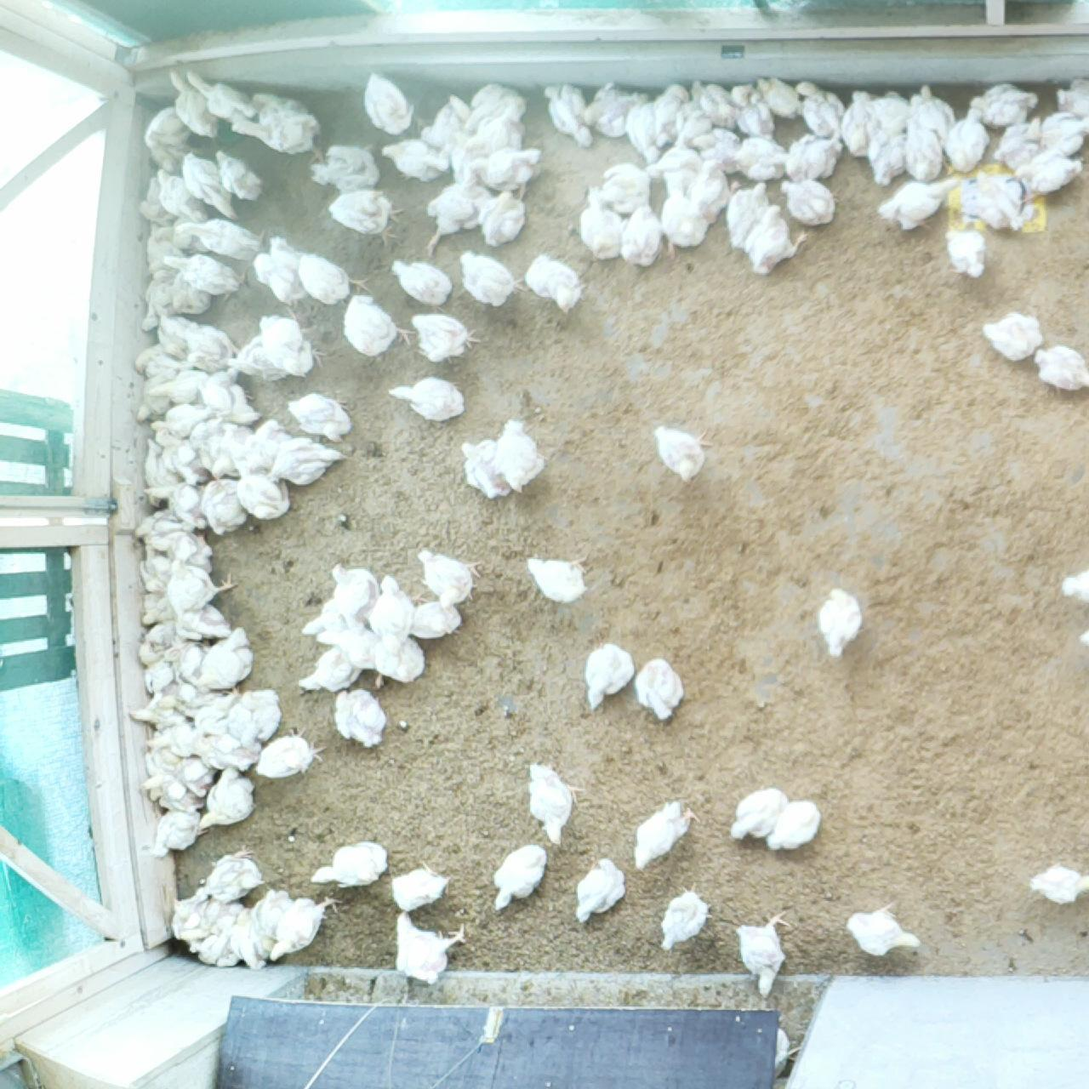chicken: (422, 161, 495, 256), (264, 891, 346, 966), (393, 909, 472, 986), (522, 757, 586, 851), (733, 907, 795, 1004), (338, 289, 417, 362), (281, 247, 373, 309), (839, 896, 925, 961), (629, 798, 701, 874), (255, 308, 332, 379), (415, 544, 486, 620), (740, 203, 811, 277), (249, 721, 331, 785), (659, 170, 716, 261), (156, 247, 252, 300), (327, 183, 406, 247), (261, 433, 349, 490), (872, 177, 956, 236), (161, 554, 238, 618), (194, 842, 273, 904), (178, 148, 243, 223), (491, 415, 549, 499), (577, 78, 652, 141), (165, 65, 224, 144), (970, 167, 1036, 237), (635, 81, 691, 163), (456, 247, 530, 309), (656, 879, 717, 954), (521, 251, 588, 319), (170, 217, 269, 263), (185, 67, 259, 128), (540, 79, 601, 153), (195, 764, 259, 834), (306, 839, 392, 891), (195, 620, 257, 692), (1011, 147, 1086, 206), (467, 145, 546, 201), (194, 365, 264, 428), (576, 182, 629, 265), (230, 458, 295, 525), (492, 843, 550, 918), (521, 552, 600, 607), (651, 419, 712, 490), (570, 854, 628, 928), (631, 653, 688, 728), (406, 311, 483, 366), (293, 640, 366, 698), (229, 110, 322, 155), (386, 372, 468, 423), (583, 638, 638, 713), (307, 141, 383, 195), (727, 785, 794, 846), (283, 391, 357, 446), (387, 855, 457, 913), (367, 574, 417, 655), (814, 584, 867, 660), (363, 628, 429, 689), (597, 158, 664, 218), (312, 621, 389, 673), (722, 177, 776, 251), (155, 682, 243, 727), (359, 67, 417, 135), (456, 435, 513, 503), (899, 112, 950, 188), (978, 309, 1047, 365), (770, 130, 844, 182), (777, 177, 842, 236), (140, 103, 194, 174), (968, 78, 1040, 131), (330, 687, 390, 749), (460, 107, 530, 160), (148, 526, 220, 577), (153, 161, 213, 222), (328, 555, 380, 625), (227, 686, 283, 751), (376, 137, 455, 183), (173, 318, 239, 373), (125, 680, 189, 736), (941, 105, 990, 178), (202, 419, 255, 485), (146, 806, 207, 863), (464, 79, 532, 130), (722, 131, 790, 182), (791, 75, 846, 138), (1023, 854, 1089, 906), (211, 147, 269, 206), (615, 201, 666, 268), (476, 186, 531, 248), (763, 797, 825, 852), (388, 257, 454, 308), (250, 886, 296, 959), (941, 221, 993, 285), (684, 73, 740, 132), (686, 156, 733, 226), (866, 115, 911, 188), (834, 85, 879, 158), (906, 79, 958, 142), (239, 415, 291, 477), (406, 588, 465, 642), (226, 904, 271, 974), (199, 477, 251, 537), (145, 301, 197, 361), (188, 733, 262, 775), (864, 89, 905, 163), (689, 123, 744, 178), (992, 114, 1046, 170), (642, 135, 704, 182), (728, 81, 775, 142), (245, 88, 306, 134), (161, 432, 211, 488), (299, 595, 357, 643), (421, 93, 471, 148), (139, 772, 204, 814), (132, 362, 176, 424), (125, 507, 188, 549), (146, 398, 215, 436), (1032, 344, 1089, 390), (134, 636, 179, 694), (167, 893, 209, 955), (147, 367, 210, 408), (139, 434, 171, 510), (161, 638, 212, 685), (753, 72, 804, 118), (141, 720, 201, 759), (1040, 109, 1089, 156), (190, 895, 241, 940), (671, 104, 715, 154), (136, 171, 176, 224), (132, 338, 179, 383), (137, 227, 185, 269), (135, 540, 172, 592), (136, 278, 168, 337), (195, 932, 241, 970), (1054, 74, 1089, 120), (138, 590, 173, 630), (138, 748, 187, 775), (1058, 565, 1089, 606)
